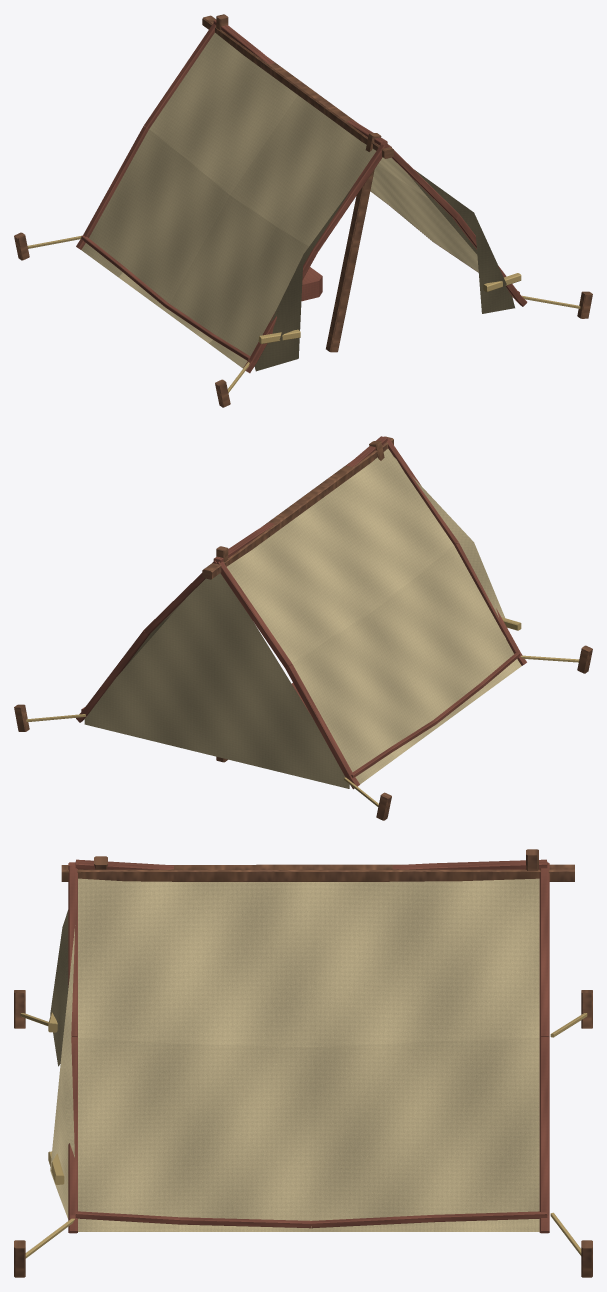
The model's file is trail_tent.glb.
3 views of the same model, one above another, from view 1: azimuth 30°, elevation 25°; view 2: azimuth 150°, elevation 25°; view 3: azimuth 270°, elevation 25° (orthographic). The views are drawn at different scales.
Parts seen in each view (by area): view 1: Trail Tent; view 2: Trail Tent; view 3: Trail Tent.
Boxes of the visible parts, x1,y1,x2,y2 form: Trail Tent: (14, 14, 592, 407); Trail Tent: (14, 436, 592, 820); Trail Tent: (14, 849, 592, 1277).
Bounding box in the file's own units: 4.59 × 2.48 × 4.35.
Materials: 4 (3 with a texture image).
